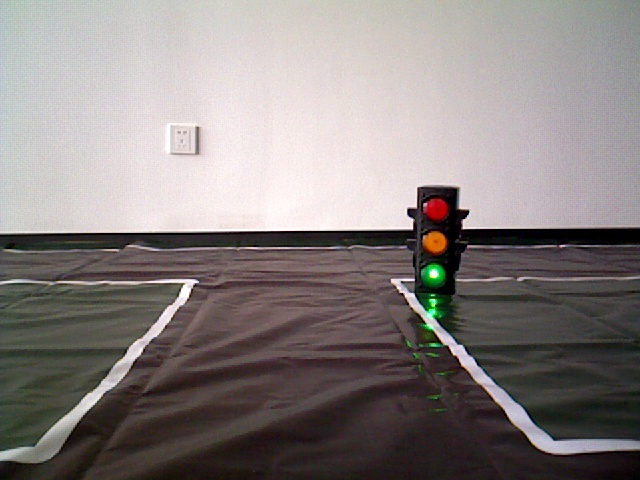green: (417, 190, 453, 291)
